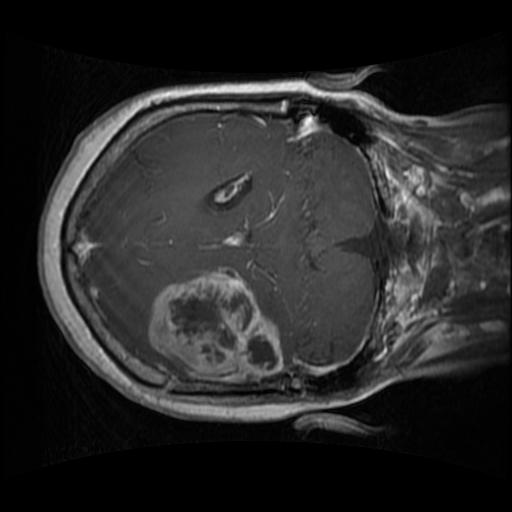glioma: (146, 265, 284, 385)
